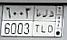0: (11, 9, 17, 35), (17, 11, 23, 35)
3: (24, 7, 32, 34)
6: (4, 6, 11, 35)
D: (47, 10, 55, 35)
L: (41, 9, 48, 33)
T: (34, 8, 41, 34)
